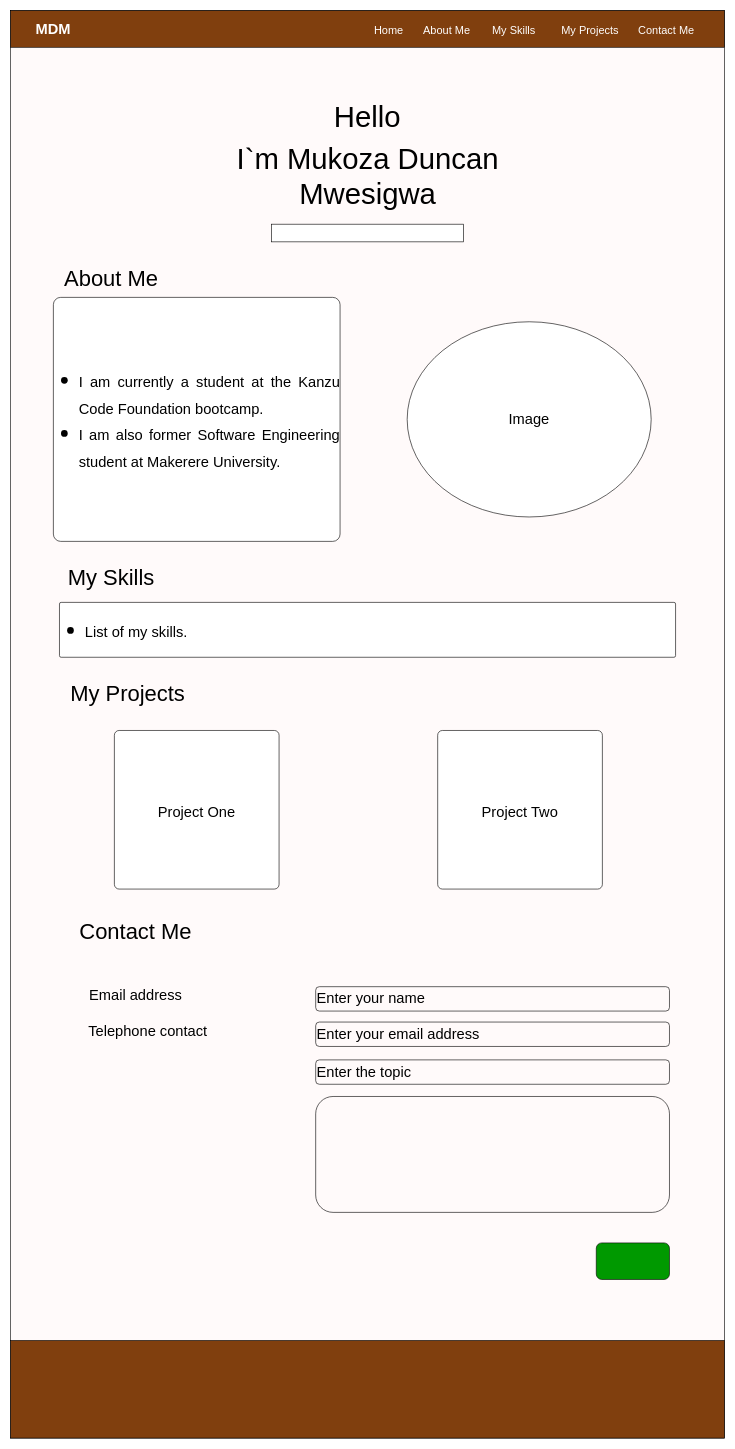
The diagram is 735 pixels wide and 1449 high, and some of its shapes have lost their labels. Each missing label, with the box of its shape:
FOOTER: (10, 1340, 724, 1438)
Place the message here: (315, 1096, 669, 1212)
Social media Icons go here: (271, 224, 464, 242)
SUBMIT: (596, 1242, 669, 1279)
